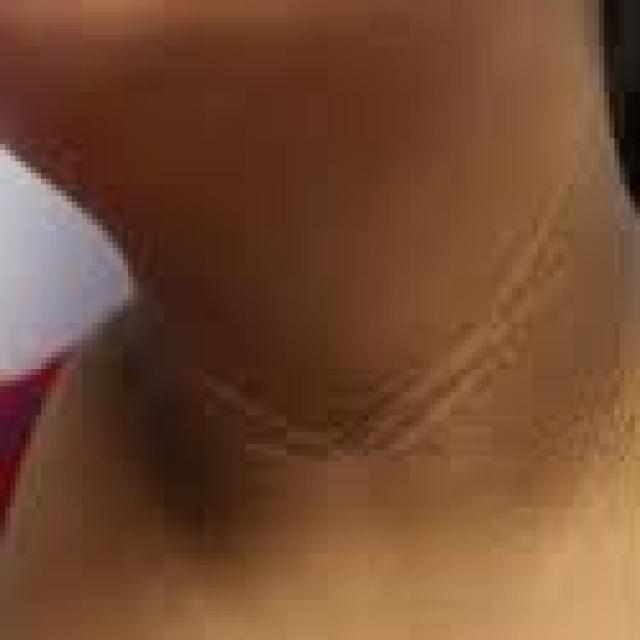Acanthosis Nigricans: (65, 91, 637, 555)
